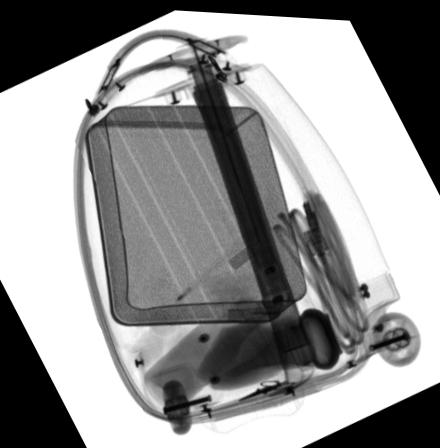Scissors: (240, 374, 294, 396)
